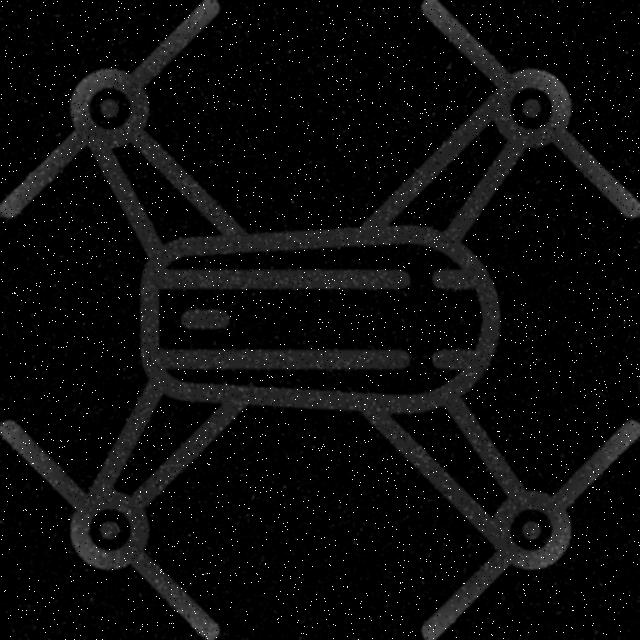drone: (2, 2, 640, 640)
